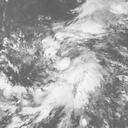cyclone: (39, 36, 89, 87)
